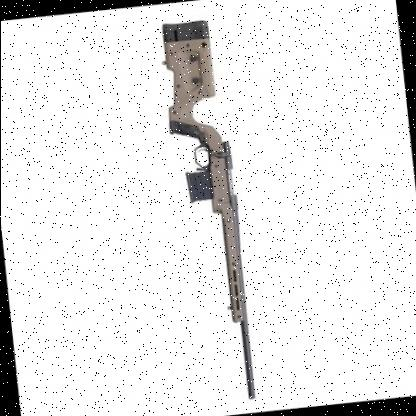rifle: (150, 11, 260, 409)
